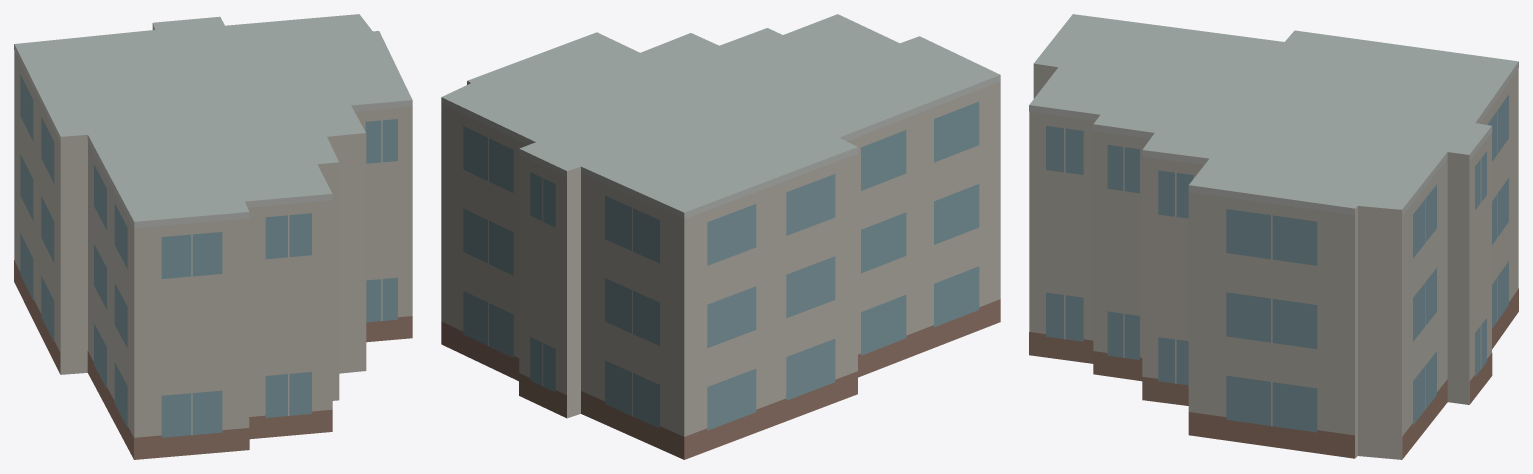
The model's file is survey-upis-32666132.glb.
The picture shows the model from 3 angles, left to right: view 1: azimuth 30°, elevation 25°; view 2: azimuth 150°, elevation 25°; view 3: azimuth 270°, elevation 25°; orthographic projection. The views are drawn at different scales.
Parts seen in each view (by area): view 1: survey-upis-32666132.tmp; view 2: survey-upis-32666132.tmp; view 3: survey-upis-32666132.tmp.
Boxes of the visible parts, x1=… form: survey-upis-32666132.tmp: x1=14, y1=14, x2=412, y2=459; survey-upis-32666132.tmp: x1=441, y1=14, x2=1000, y2=459; survey-upis-32666132.tmp: x1=1029, y1=14, x2=1518, y2=459.
Size of the model in its own units: 15.37 by 9.15 by 16.25.
